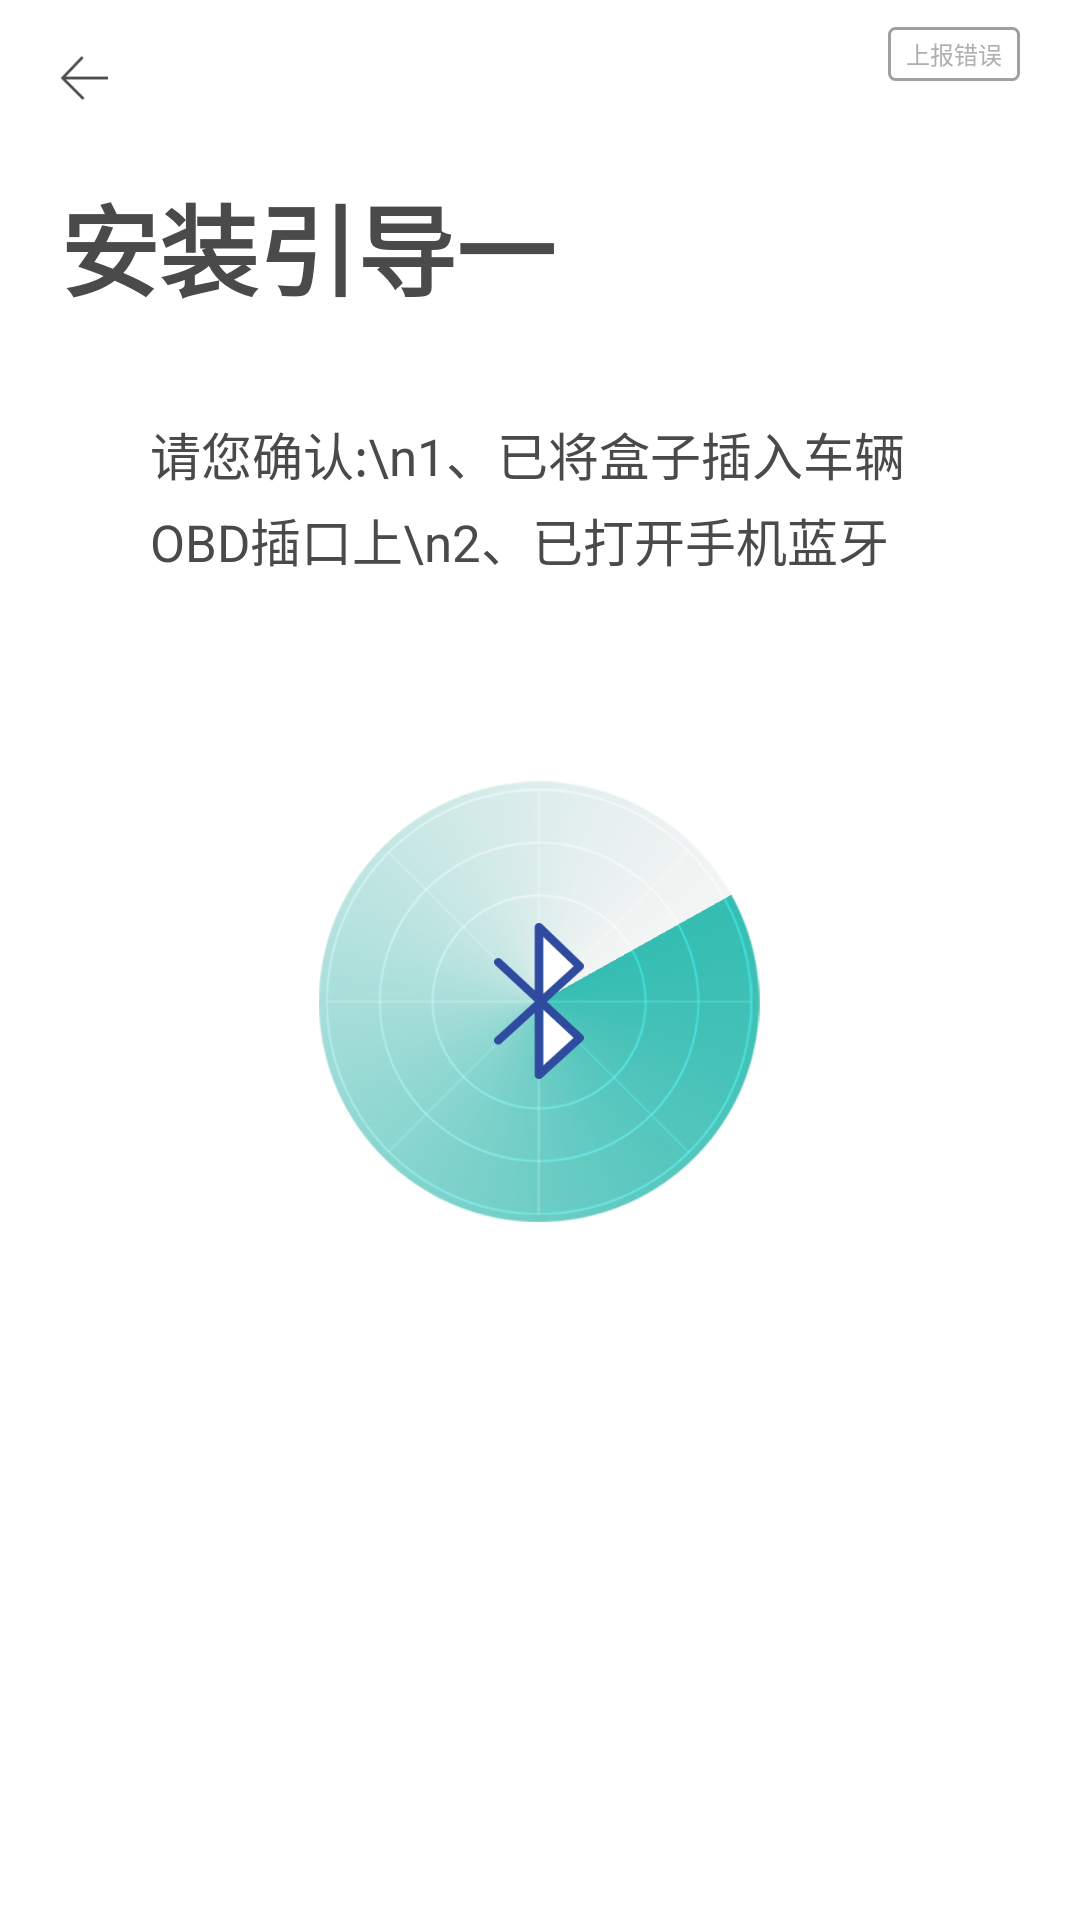

Where icons sit on this 1080x1920 app screen, as (x1, y1, x2, y2):
back: (61, 56, 108, 100)
